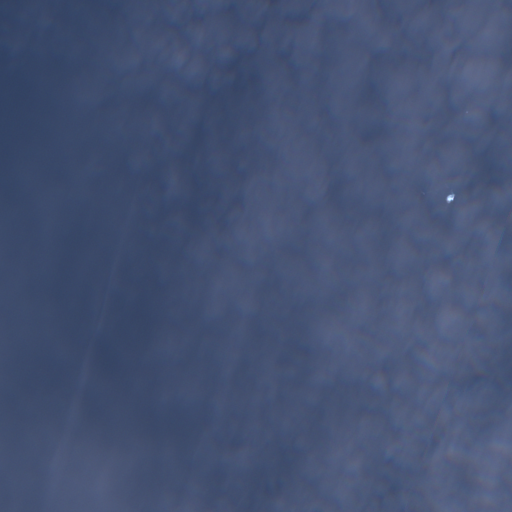Iceberg: (446, 194, 454, 202)
